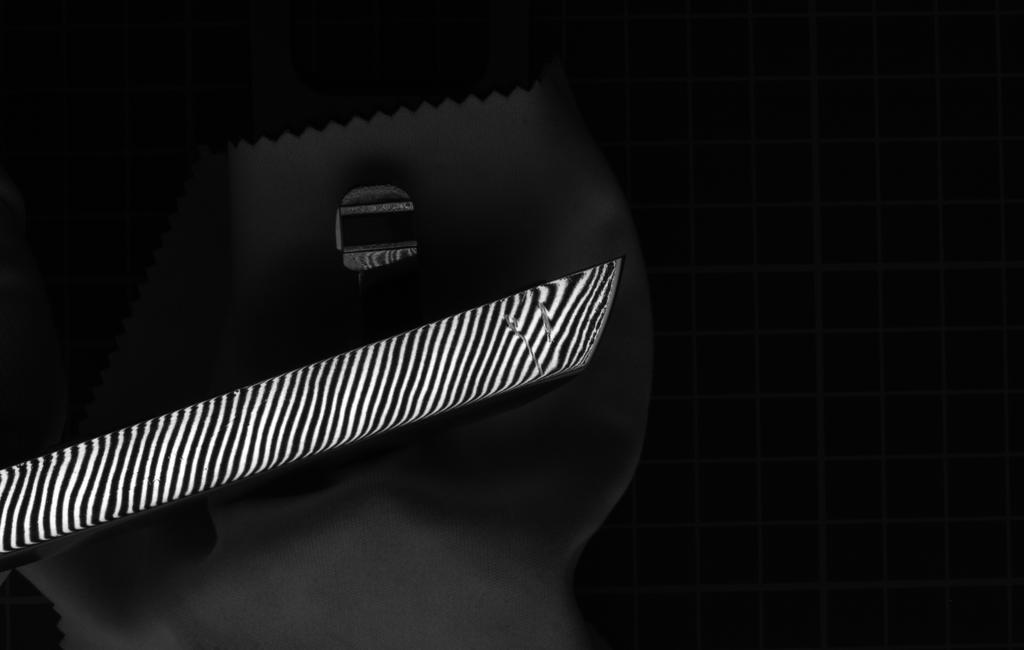Scratch: (501, 313, 546, 379), (526, 296, 571, 352)
